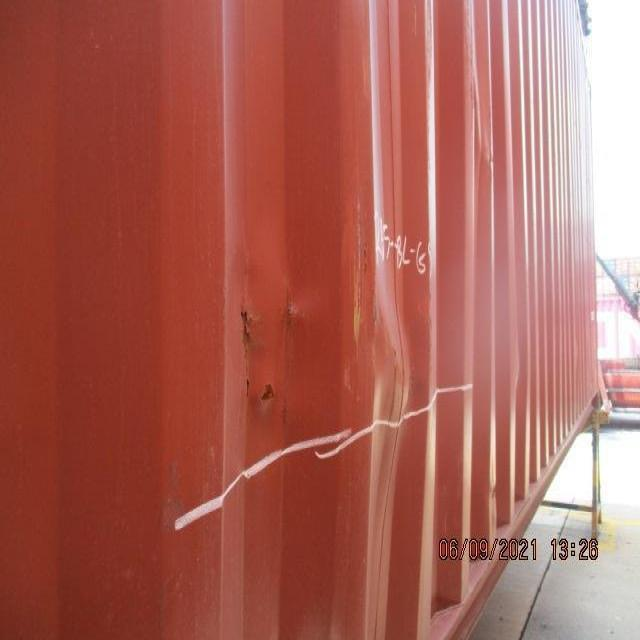dent: (157, 208, 469, 532), (462, 93, 512, 209)
